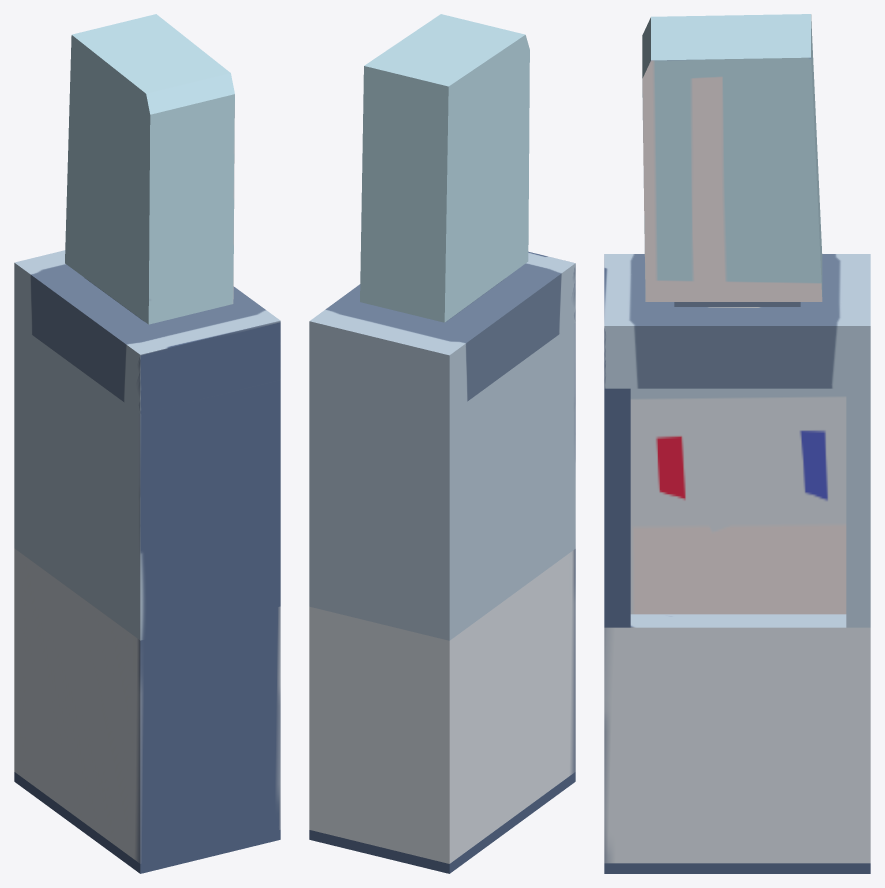
Rendered from WATER COOLER-1.fbx.
3 views of the same model, side by side, from view 1: azimuth 30°, elevation 25°; view 2: azimuth 150°, elevation 25°; view 3: azimuth 270°, elevation 25° (orthographic). The views are drawn at different scales.
Visible parts, largest first — view 1: Cube; view 2: Cube; view 3: Cube.
Part boxes in pixels (x1=…): Cube: x1=14, y1=14, x2=280, y2=873; Cube: x1=309, y1=14, x2=575, y2=873; Cube: x1=604, y1=14, x2=870, y2=873.
Size of the model in its own units: 32.4 by 168 by 50.45.
1 material, 1 textured.
